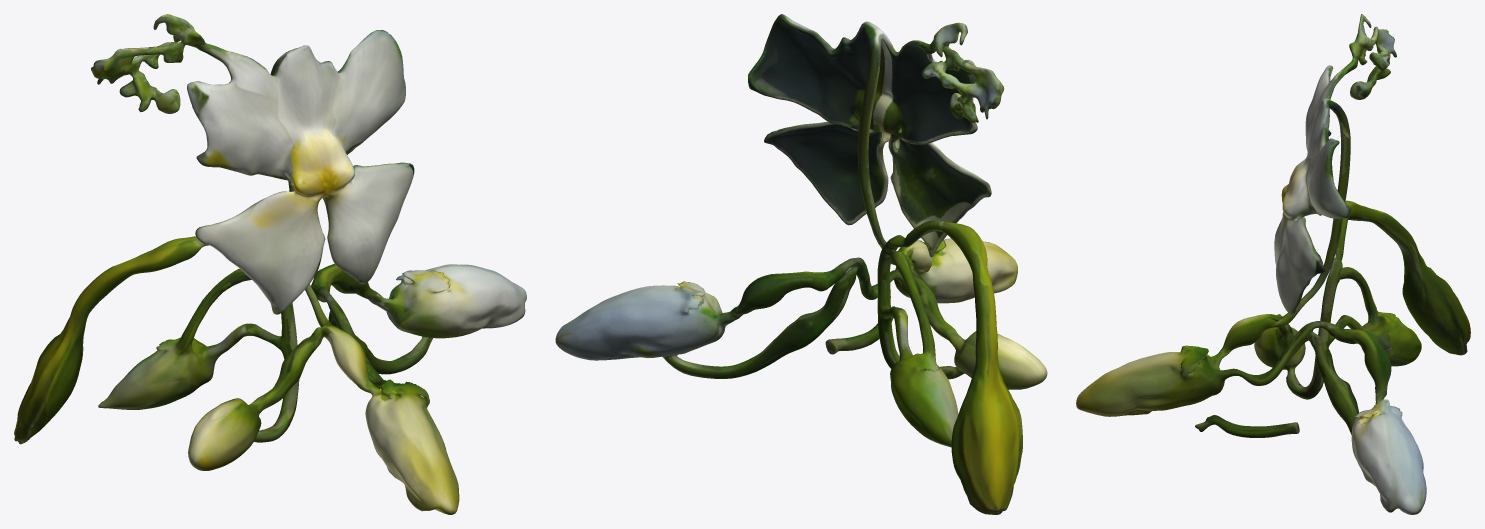
Rendered from herb0082.gltf.
The picture shows the model from 3 angles, left to right: view 1: azimuth 30°, elevation 25°; view 2: azimuth 150°, elevation 25°; view 3: azimuth 270°, elevation 25°; orthographic projection. The views are drawn at different scales.
Parts seen in each view (by area): view 1: Mesh_0.026; view 2: Mesh_0.026; view 3: Mesh_0.026.
Boxes of the visible parts, x1,y1,x2,y2 form: Mesh_0.026: (14,14,526,514); Mesh_0.026: (555,14,1047,514); Mesh_0.026: (1076,14,1470,514).
Bounding box in the file's own units: 2 × 1.75 × 1.66.
Materials: 1 (1 with a texture image).
